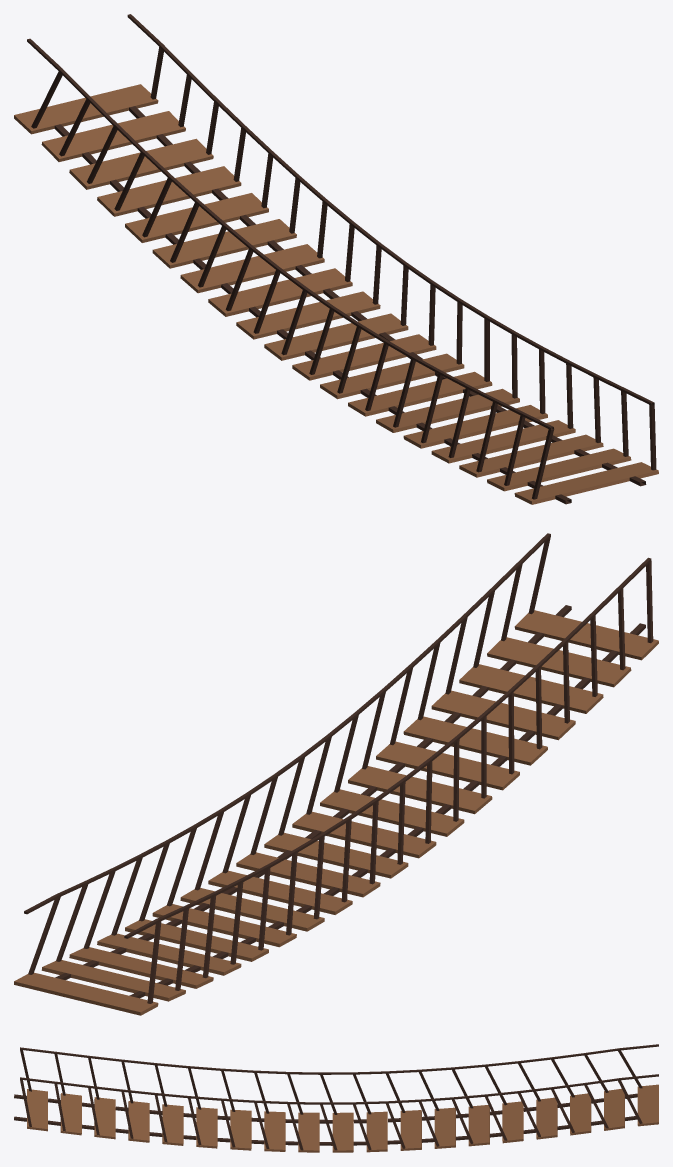
File: Bridge.fbx
The picture shows the model from 3 angles, top to bottom: view 1: azimuth 30°, elevation 25°; view 2: azimuth 150°, elevation 25°; view 3: azimuth 270°, elevation 25°; orthographic projection. The views are drawn at different scales.
Visible parts, largest first — view 1: Bridge; view 2: Bridge; view 3: Bridge.
Part boxes in pixels (left/top/right/bottom): Bridge: left=14, top=14, right=658, bottom=504; Bridge: left=14, top=533, right=658, bottom=1015; Bridge: left=14, top=1044, right=658, bottom=1152.
Size of the model in its own units: 163 by 151 by 1177.
